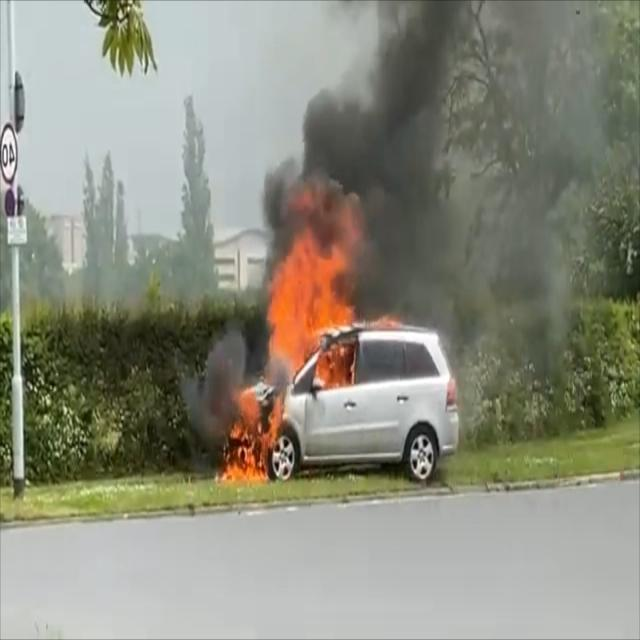fire: (216, 165, 380, 479)
